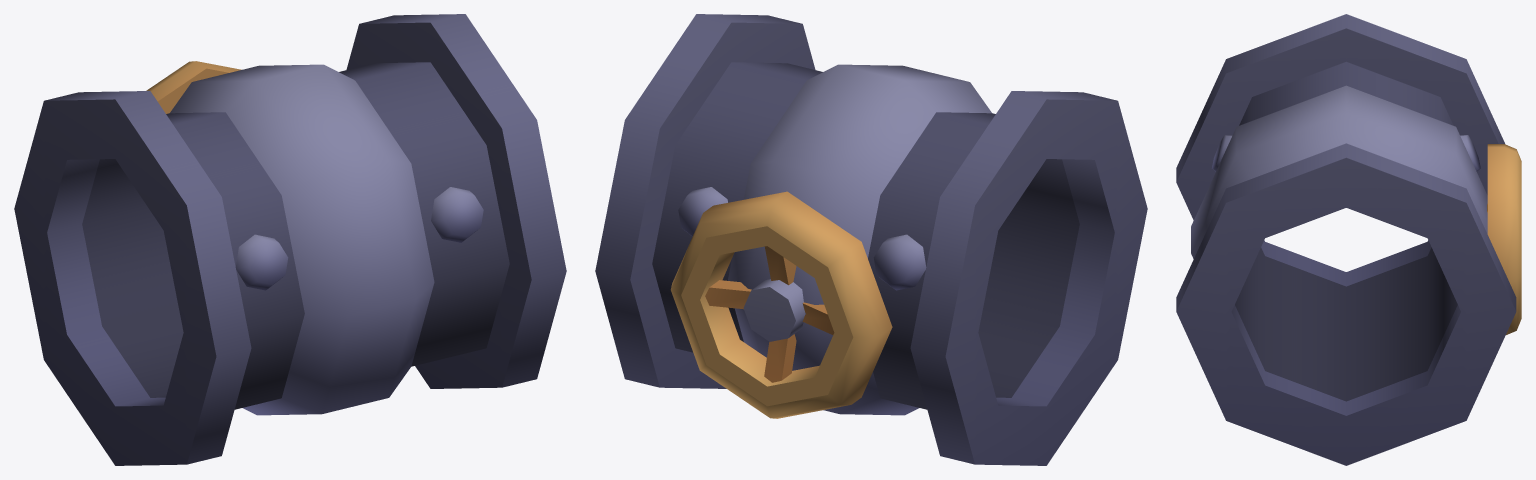
The model's file is pipe-large-valve.glb.
The picture shows the model from 3 angles, left to right: view 1: azimuth 30°, elevation 25°; view 2: azimuth 150°, elevation 25°; view 3: azimuth 270°, elevation 25°; orthographic projection. The views are drawn at different scales.
Visible parts, largest first — view 1: pipe-large-valve; view 2: pipe-large-valve; view 3: pipe-large-valve.
Boxes of the visible parts, x1=… form: pipe-large-valve: x1=14, y1=14, x2=566, y2=465; pipe-large-valve: x1=595, y1=14, x2=1147, y2=465; pipe-large-valve: x1=1176, y1=14, x2=1521, y2=465.
Bounding box in the file's own units: 1 × 1 × 1.02.
